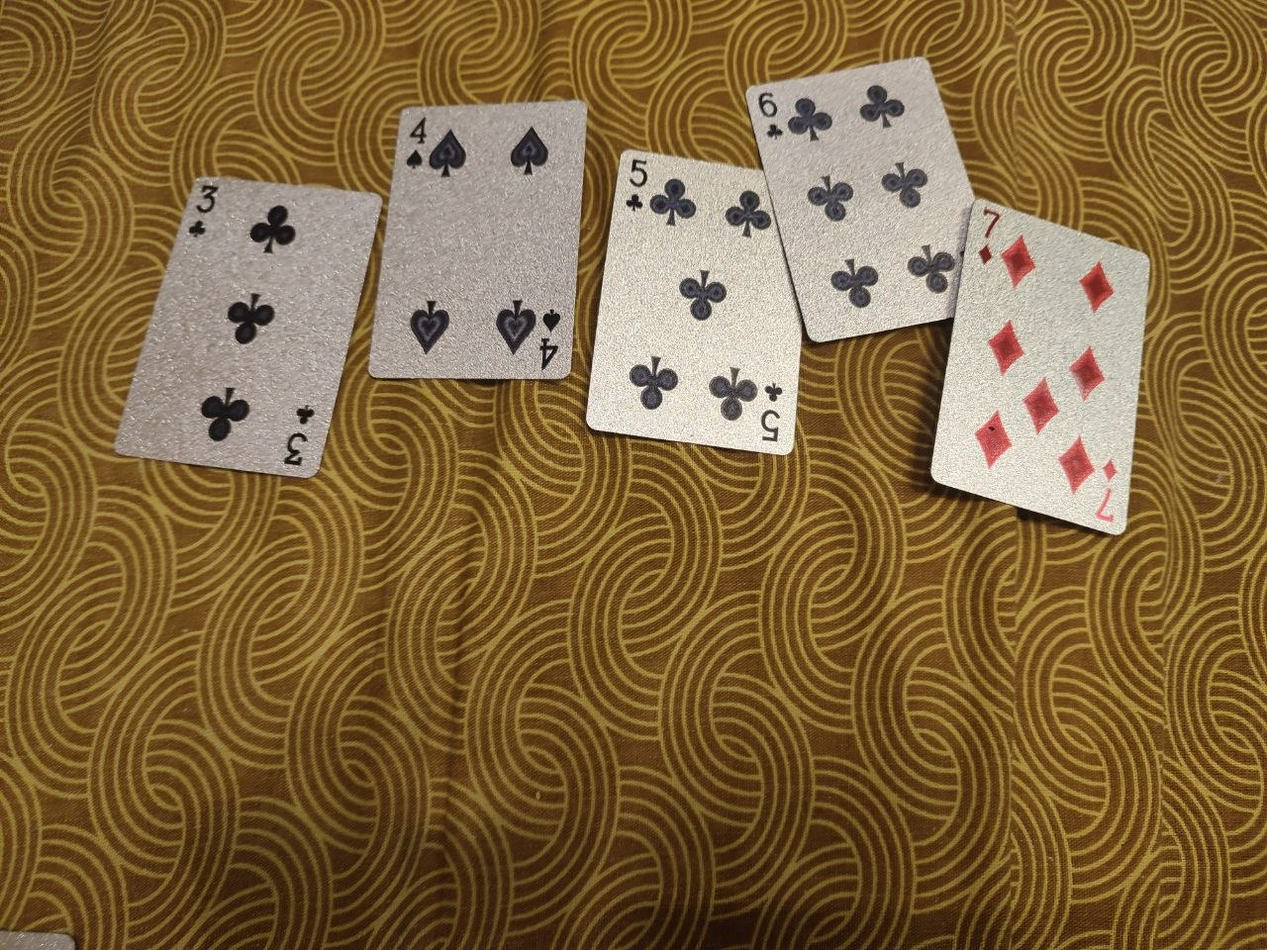3C: (112, 176, 384, 476)
4S: (370, 97, 590, 381)
5C: (585, 149, 803, 455)
6C: (744, 54, 974, 341)
7D: (930, 196, 1152, 535)
